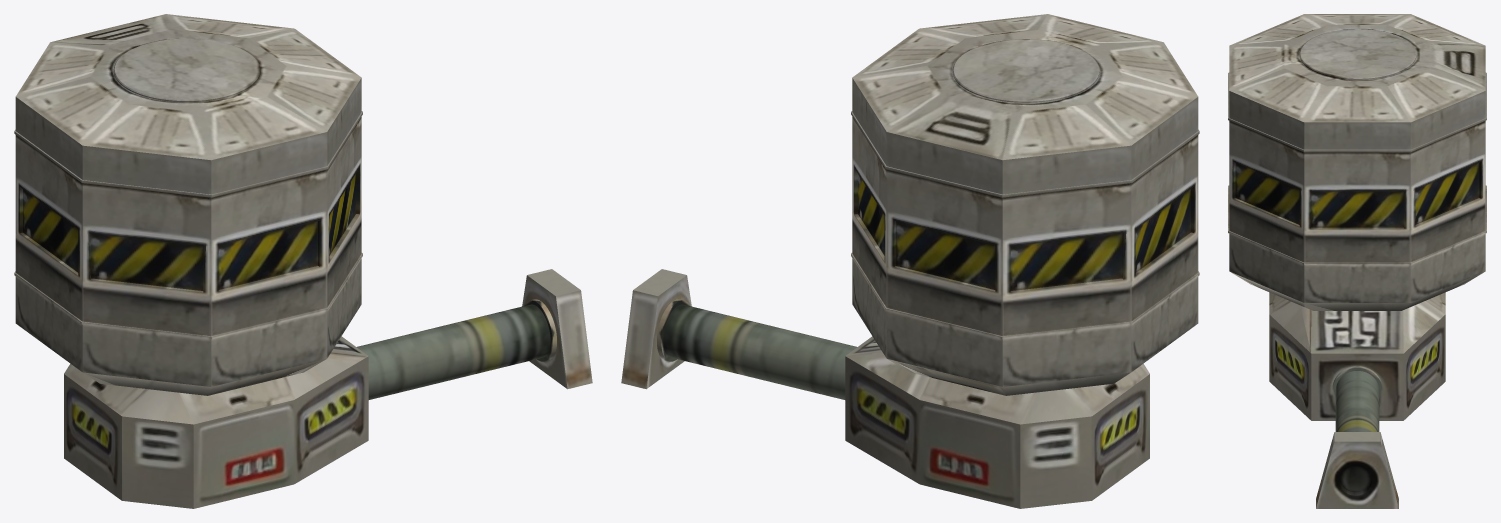
The model's file is pipetank_cad.glb.
3 views of the same model, side by side, from view 1: azimuth 30°, elevation 25°; view 2: azimuth 150°, elevation 25°; view 3: azimuth 270°, elevation 25° (orthographic). The views are drawn at different scales.
Parts seen in each view (by area): view 1: Pipetank; view 2: Pipetank; view 3: Pipetank.
Boxes of the visible parts, x1,y1,x2,y2 form: Pipetank: [14, 14, 592, 508]; Pipetank: [621, 14, 1199, 508]; Pipetank: [1228, 14, 1486, 508].
Bounding box in the file's own units: 17.54 × 12.51 × 9.52.
1 material, 1 textured.
